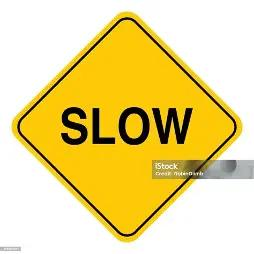Slow: (17, 17, 236, 226)
